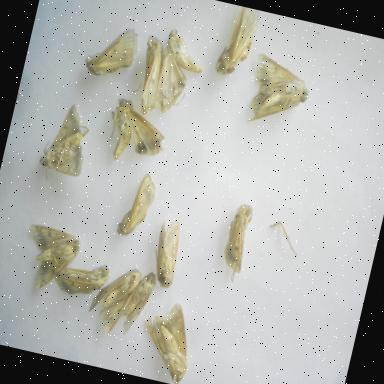abw: (239, 50, 317, 138), (31, 94, 100, 192), (146, 22, 213, 122), (131, 293, 204, 384), (98, 92, 177, 174), (13, 216, 87, 302), (81, 254, 146, 338), (128, 31, 184, 123), (79, 16, 146, 89), (213, 197, 262, 289), (210, 4, 264, 86), (47, 249, 116, 310), (112, 164, 162, 246), (109, 264, 161, 342), (142, 211, 190, 293)
